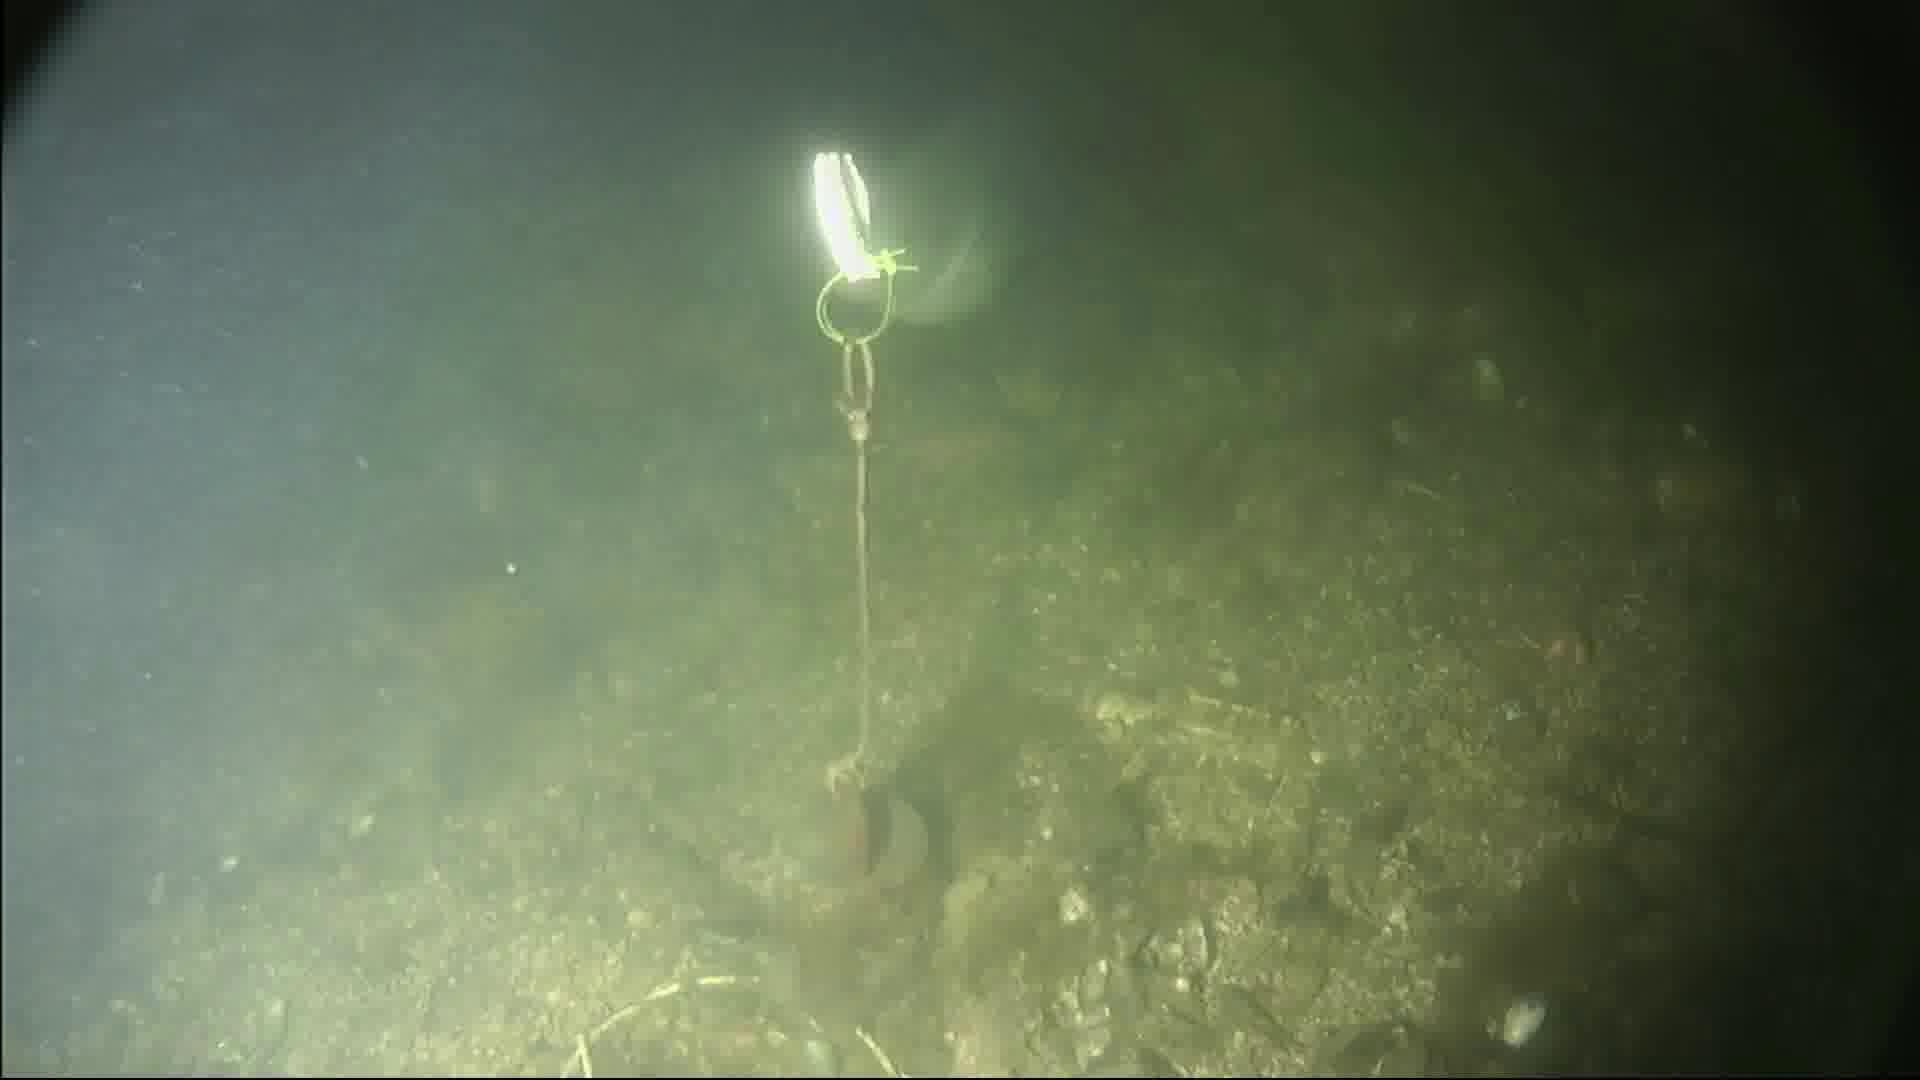fish: (827, 203, 1029, 329)
